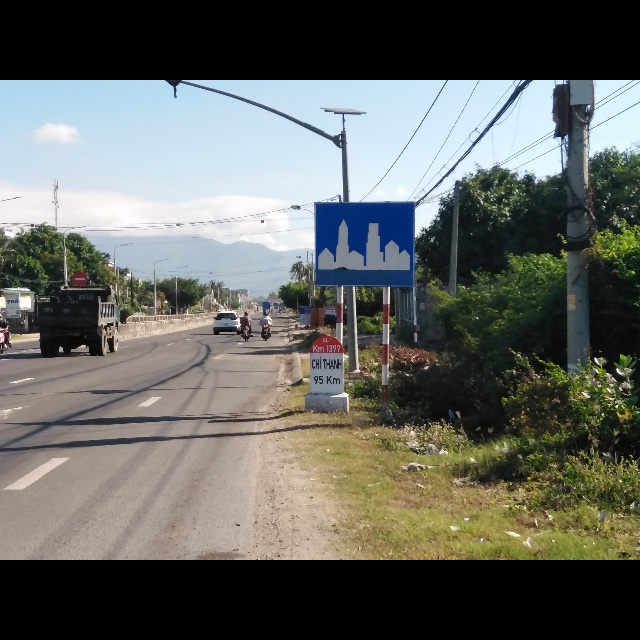Khu đông dân cư: (312, 200, 416, 287)
